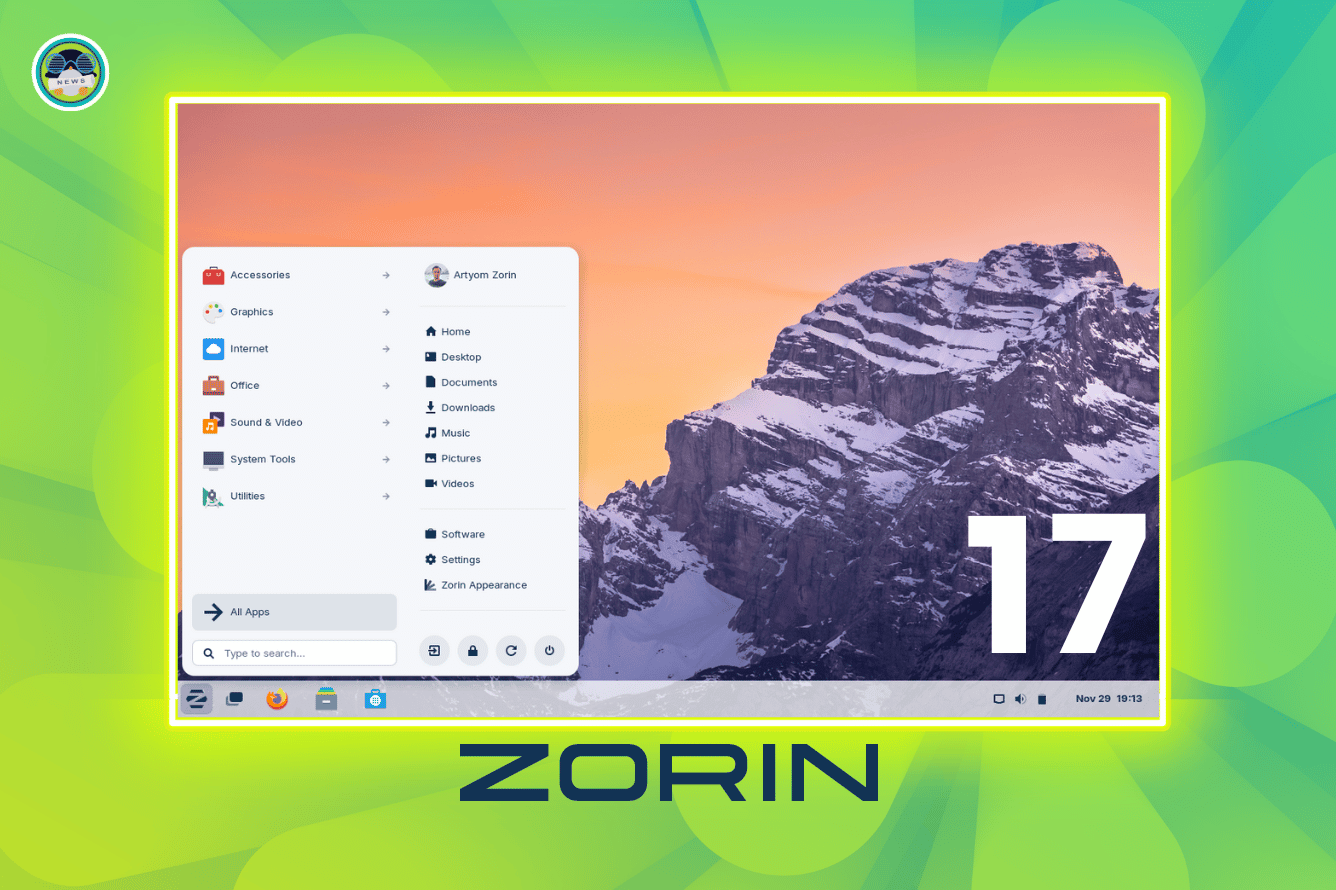search_box: (190, 638, 402, 672)
